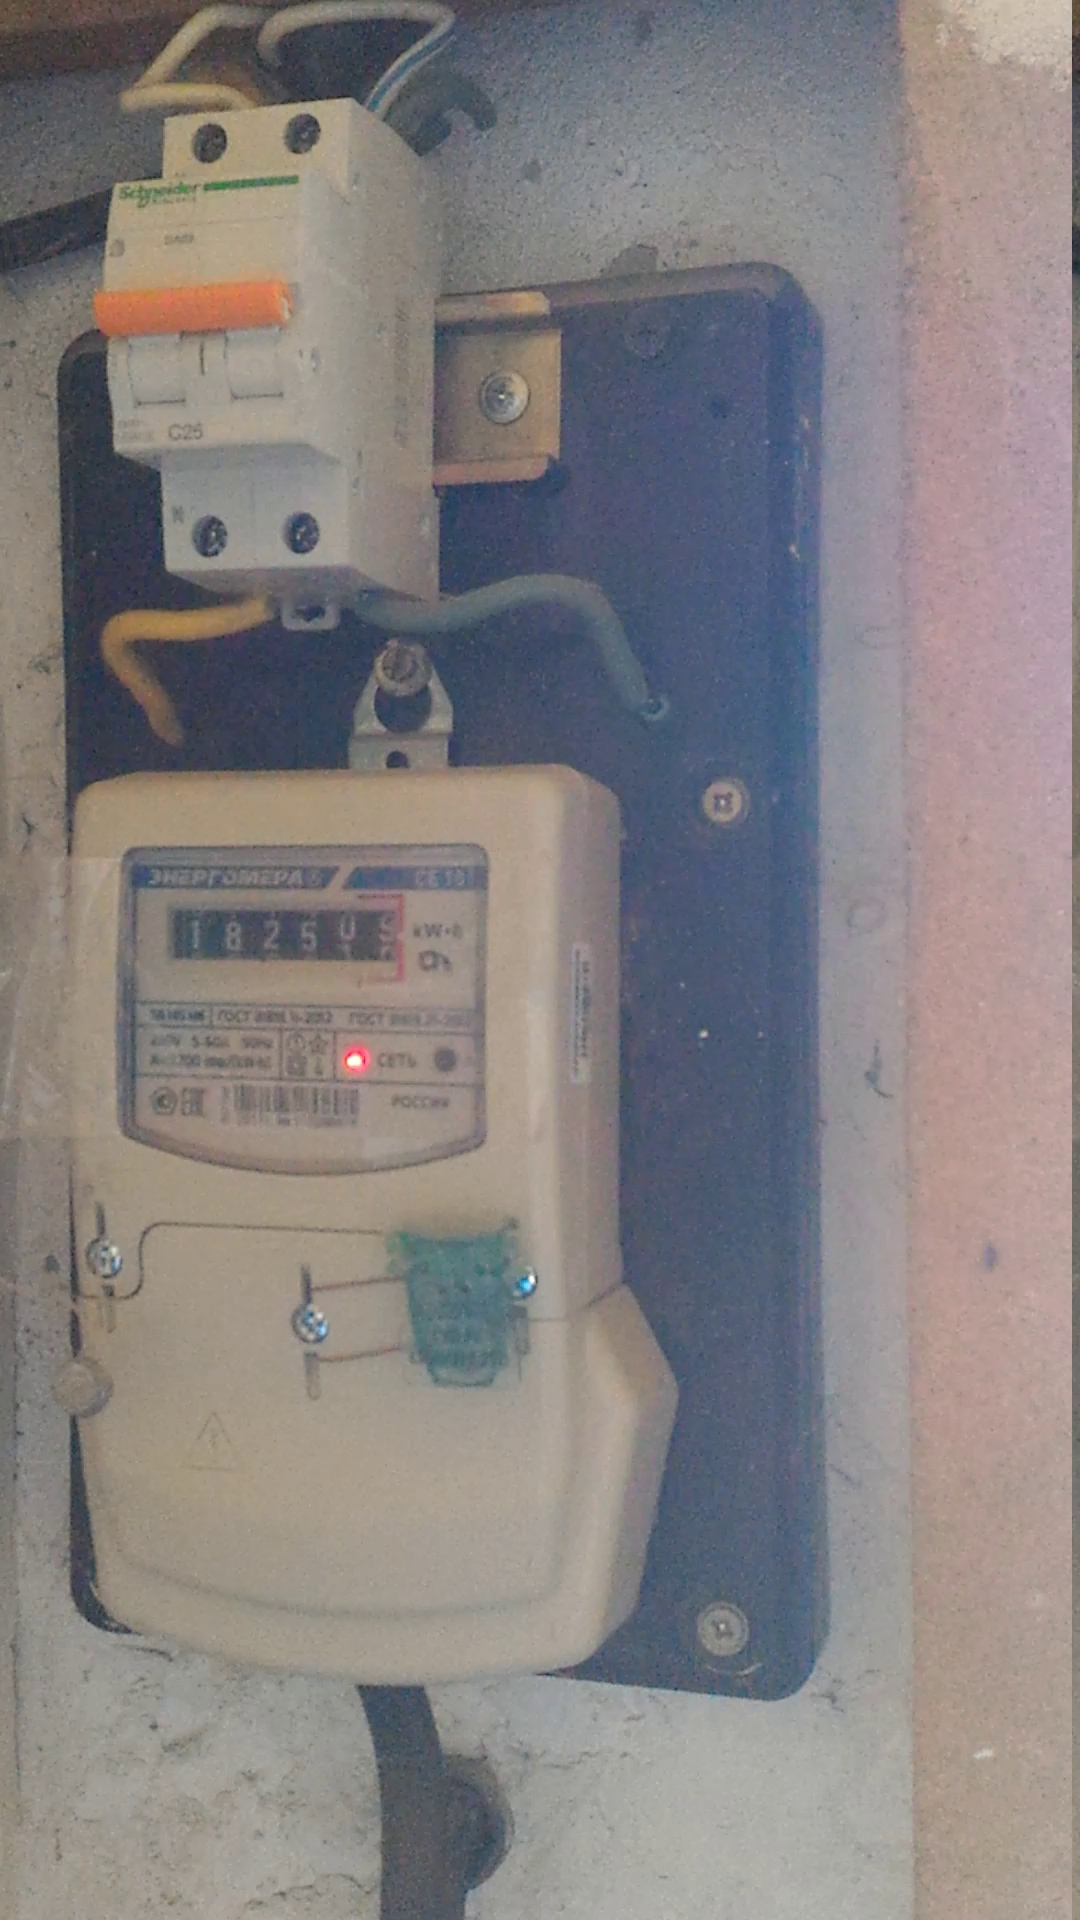counter: (51, 764, 645, 1684)
counter_screen: (169, 909, 402, 964)
